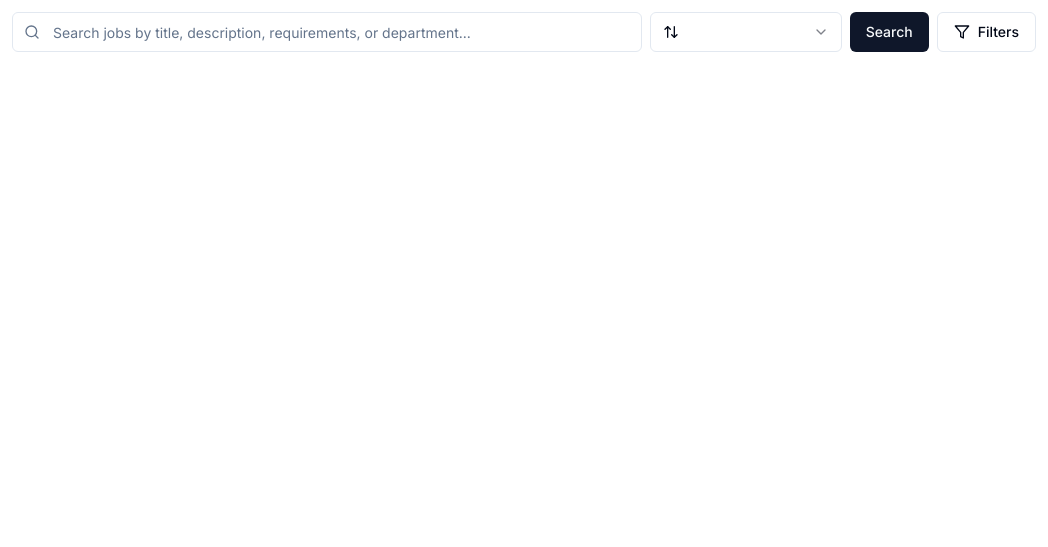
JobSearchFilters › Advanced Filters Toggle › should toggle advanced filters panel
expect the text "filter jobs" is not shown: met
# Click to show filters
Click the button "Filters".
click(986, 32)  # box [937,12,1036,52]
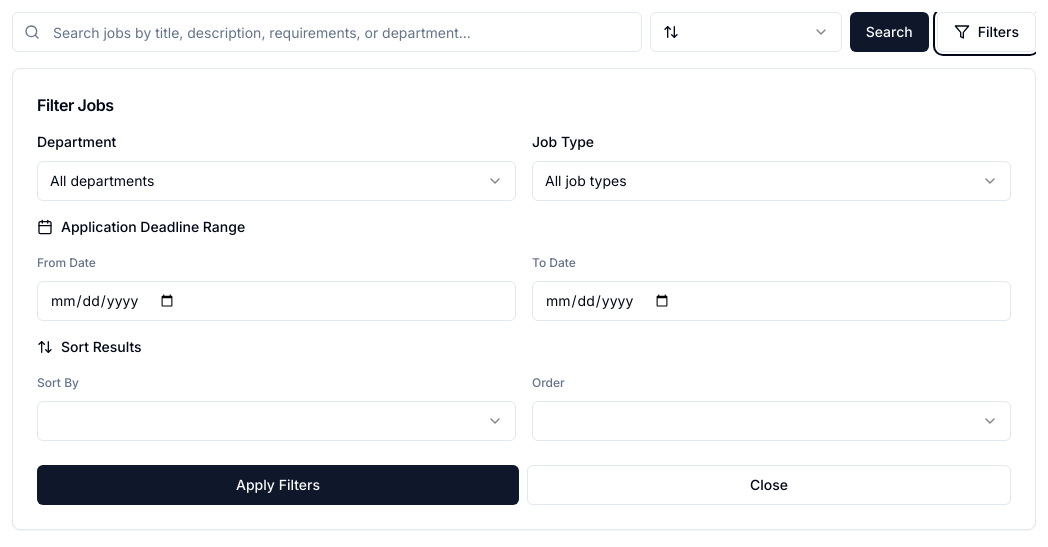
expect the heading "Filter Jobs" is shown: met, box [37,93,114,117]
# Click to hide filters
Click the button "Filters".
click(986, 32)  # box [937,12,1036,52]
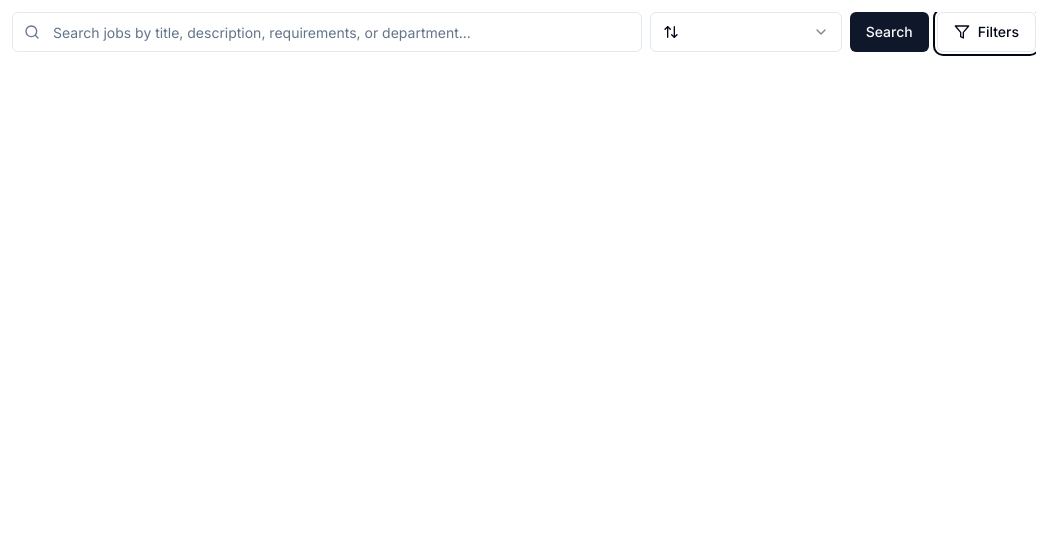
expect the heading "Filter Jobs" is gone: met
